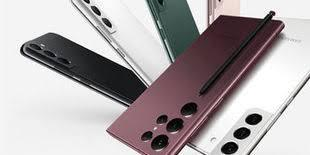Smartphone: (101, 15, 279, 155), (186, 18, 310, 155), (70, 3, 168, 86), (24, 35, 156, 93), (146, 1, 199, 65), (207, 0, 243, 22)
